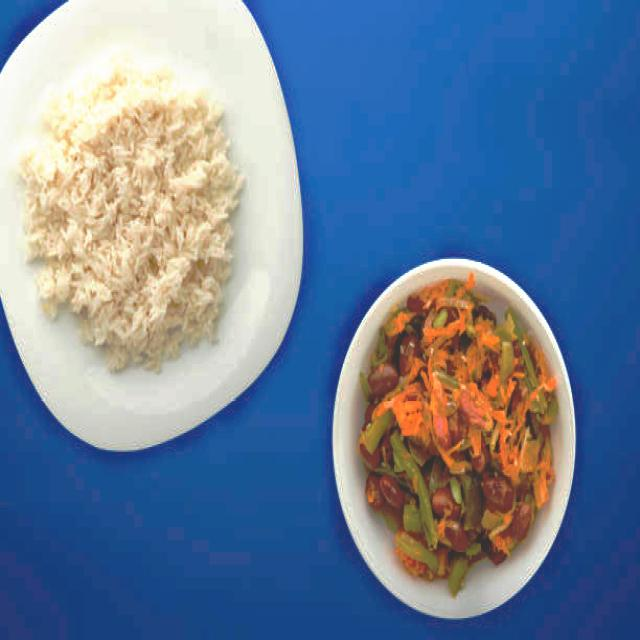rice: (19, 49, 247, 373)
